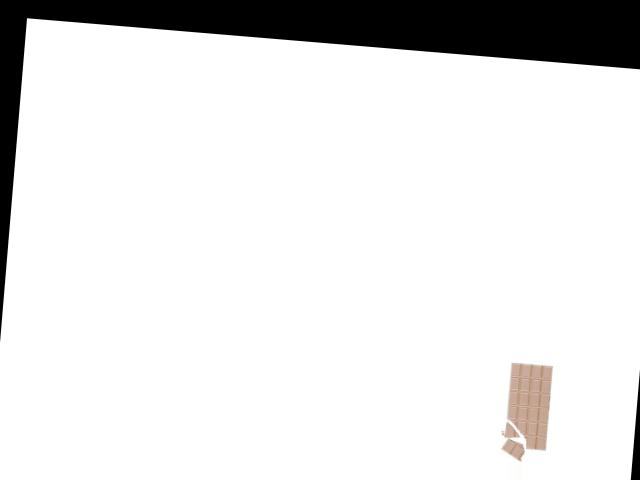chocolate: (490, 360, 560, 464)
